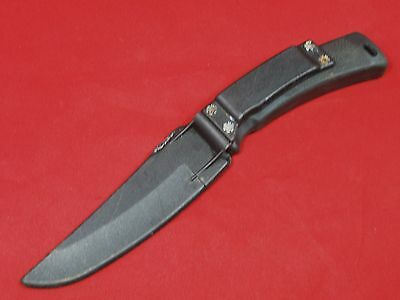knief: (12, 23, 389, 284)
